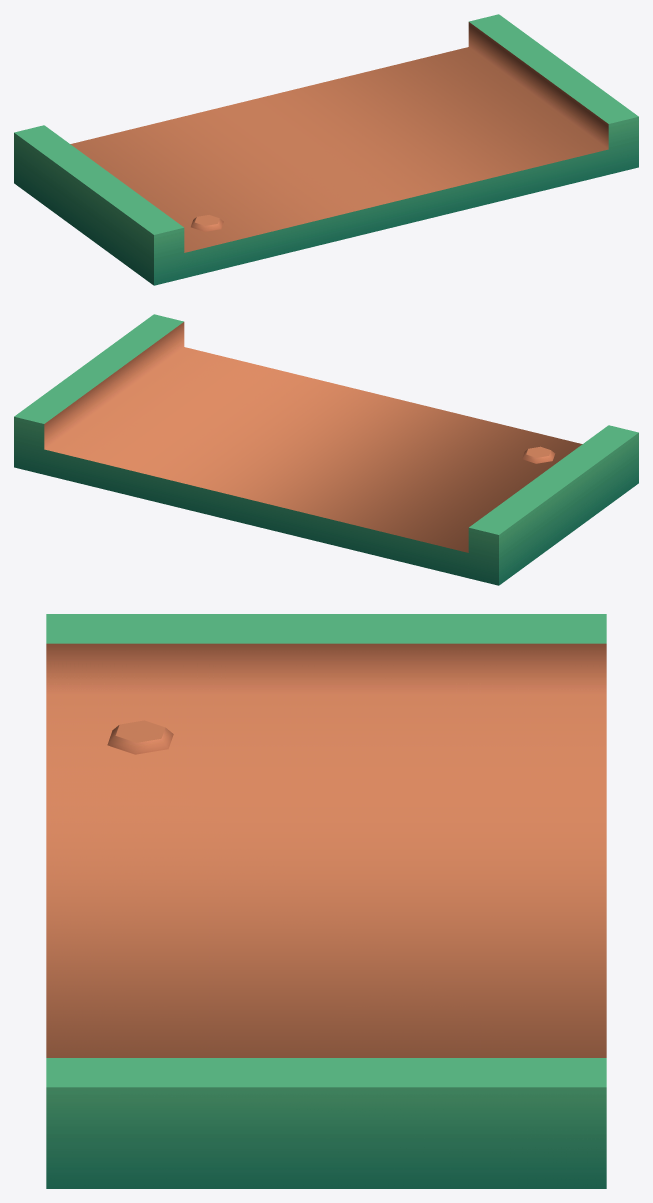
The model's file is tile-wide-straight.glb.
3 renders of one model, top to bottom at view 1: azimuth 30°, elevation 25°; view 2: azimuth 150°, elevation 25°; view 3: azimuth 270°, elevation 25°, orthographic. The views are drawn at different scales.
Parts seen in each view (by area): view 1: tile-wide-straight; view 2: tile-wide-straight; view 3: tile-wide-straight.
Boxes of the visible parts, x1,y1,x2,y2 form: tile-wide-straight: [14, 14, 638, 285]; tile-wide-straight: [14, 314, 638, 585]; tile-wide-straight: [46, 614, 606, 1188].
Bounding box in the file's own units: 2 × 0.2 × 1.
1 material, 1 textured.
